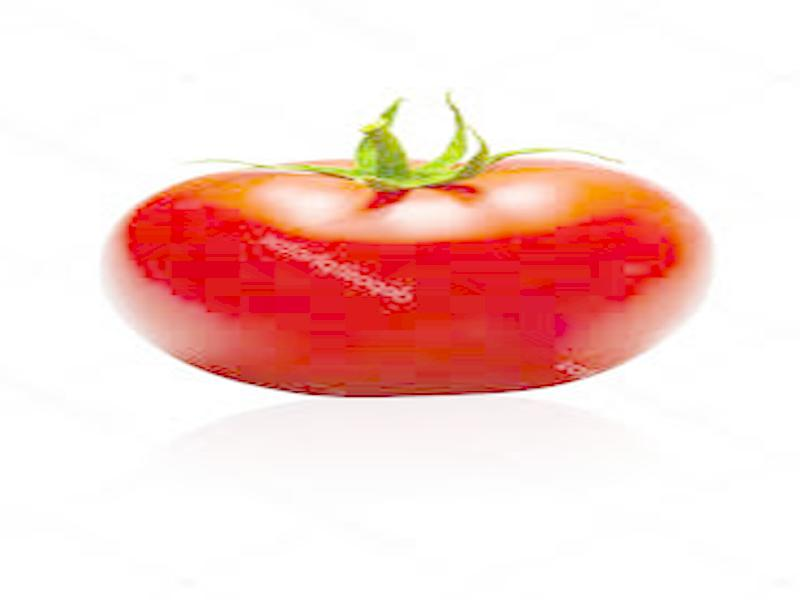Tomato: (100, 159, 716, 396)
